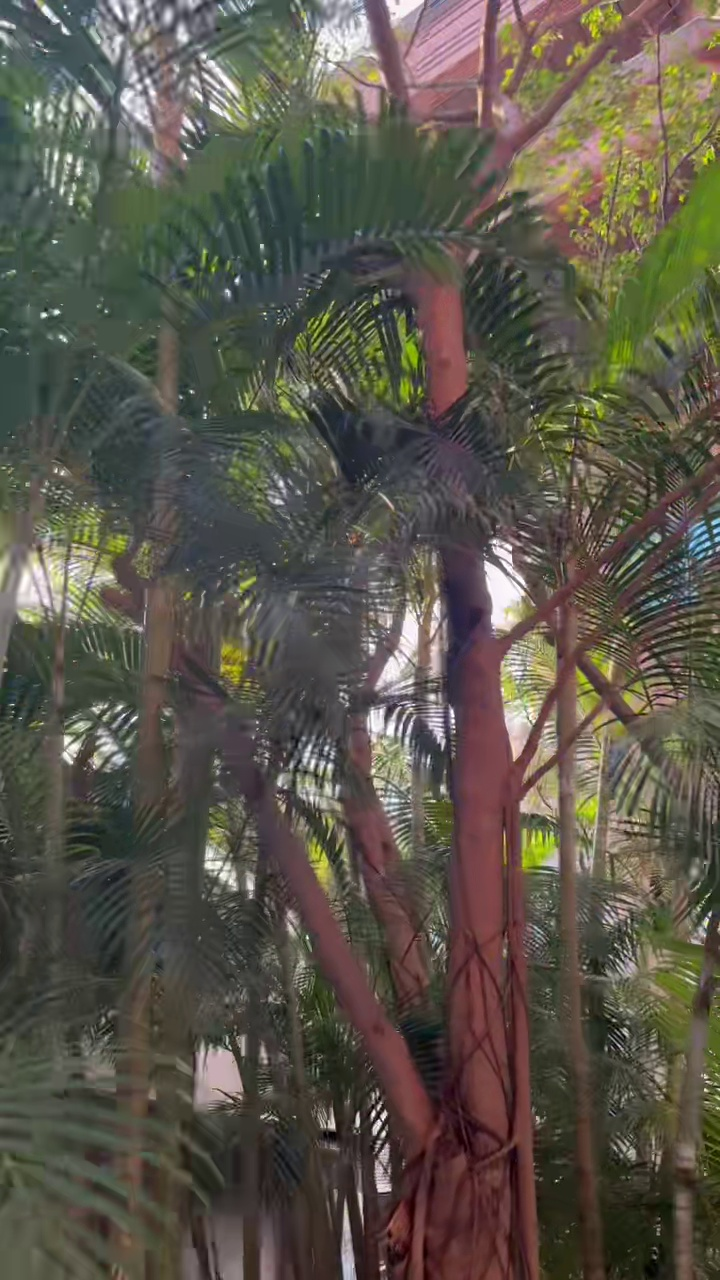Ficus benjamina: (285, 0, 618, 1279)
